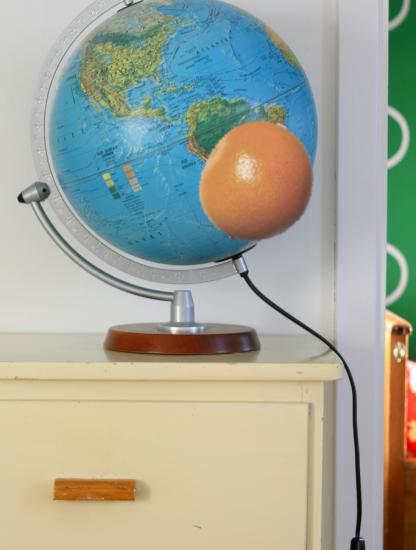Grapefruit: (196, 120, 321, 245)
